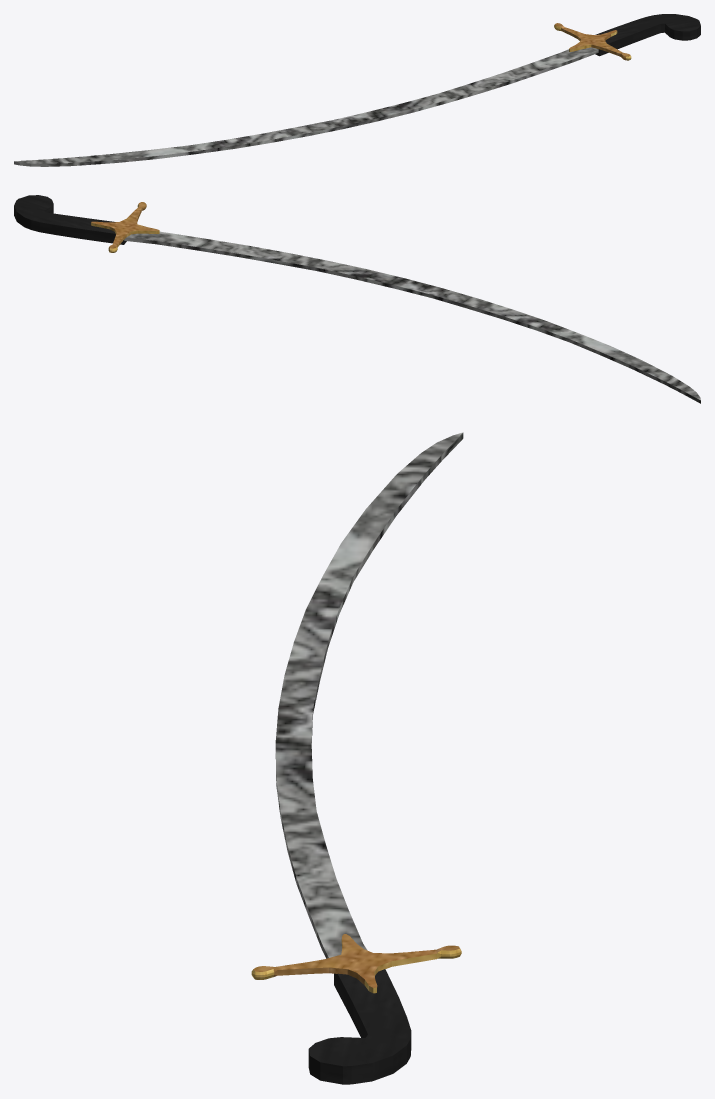
Rendered from machetedesanmartin4.glb.
The picture shows the model from 3 angles, top to bottom: view 1: azimuth 30°, elevation 25°; view 2: azimuth 150°, elevation 25°; view 3: azimuth 270°, elevation 25°; orthographic projection. The views are drawn at different scales.
Visible parts, largest first — view 1: Plane.001; view 2: Plane.001; view 3: Plane.001.
Part boxes in pixels (x1=…): Plane.001: x1=14, y1=14, x2=700, y2=166; Plane.001: x1=14, y1=195, x2=700, y2=403; Plane.001: x1=251, y1=432, x2=463, y2=1084.
Bounding box in the file's own units: 1.78 × 0.0337 × 0.2497.
Materials: 3 (3 with a texture image).
